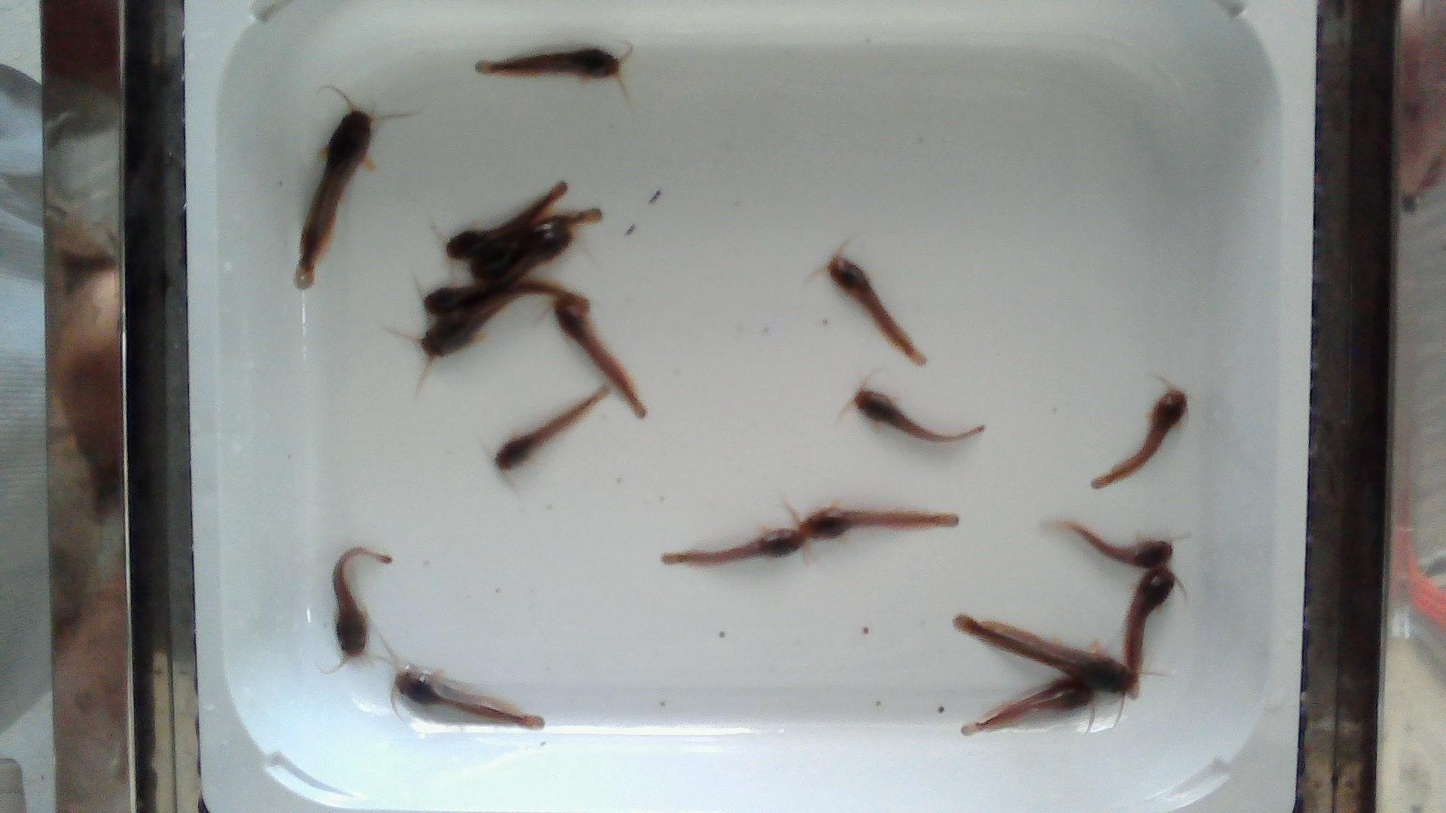lele: (294, 89, 374, 288), (953, 610, 1135, 696), (826, 247, 926, 364), (555, 299, 648, 417), (468, 208, 610, 282), (446, 182, 565, 261), (1092, 388, 1186, 488), (496, 388, 608, 470), (395, 667, 544, 728), (421, 293, 549, 357), (961, 678, 1094, 733), (853, 388, 983, 443), (1124, 568, 1175, 699), (333, 547, 392, 656), (661, 524, 805, 568), (422, 282, 579, 319), (479, 227, 568, 288), (475, 45, 630, 80), (800, 507, 956, 541), (1070, 522, 1174, 571)
